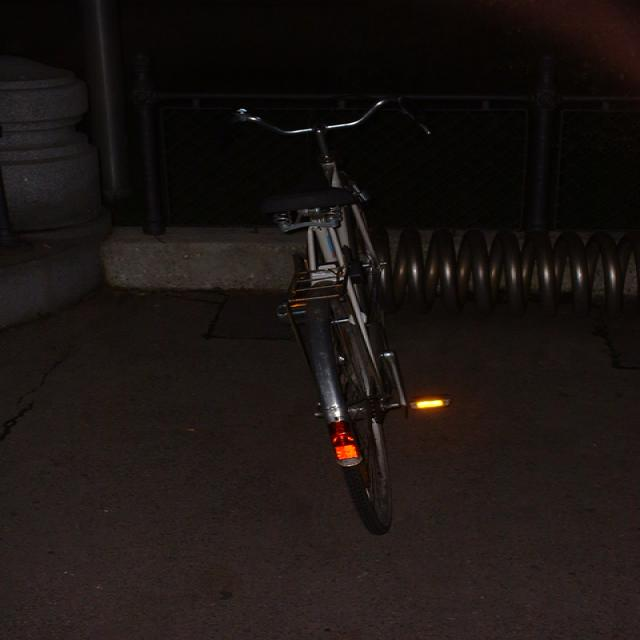Bicycle: (239, 82, 489, 534)
